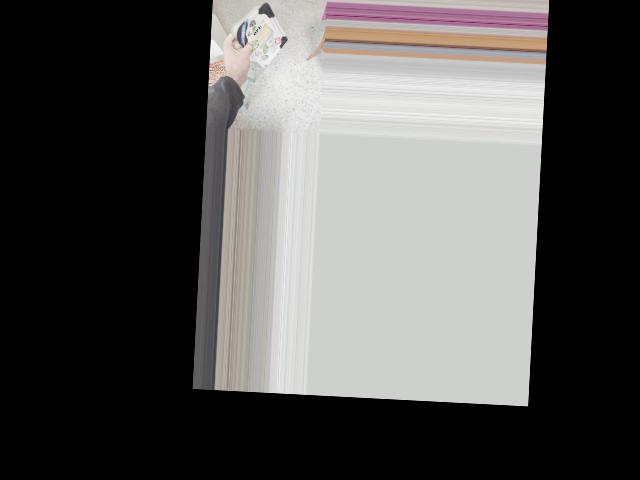cheese: (218, 2, 295, 59)
